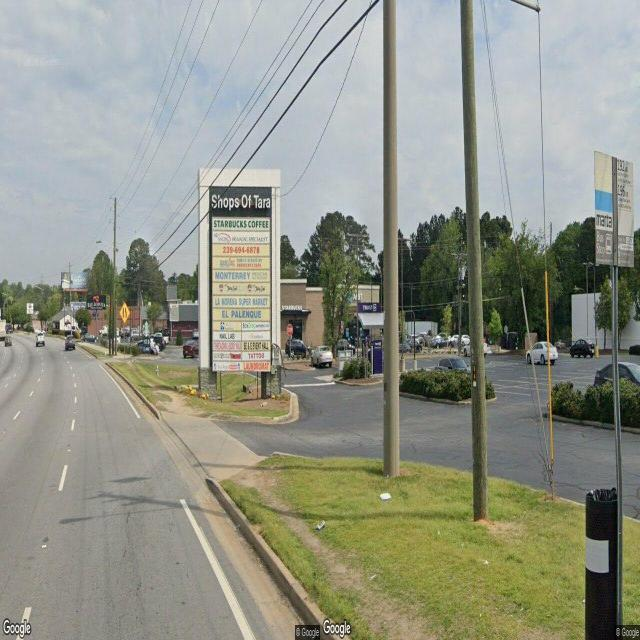trash_can: (584, 489, 622, 639)
